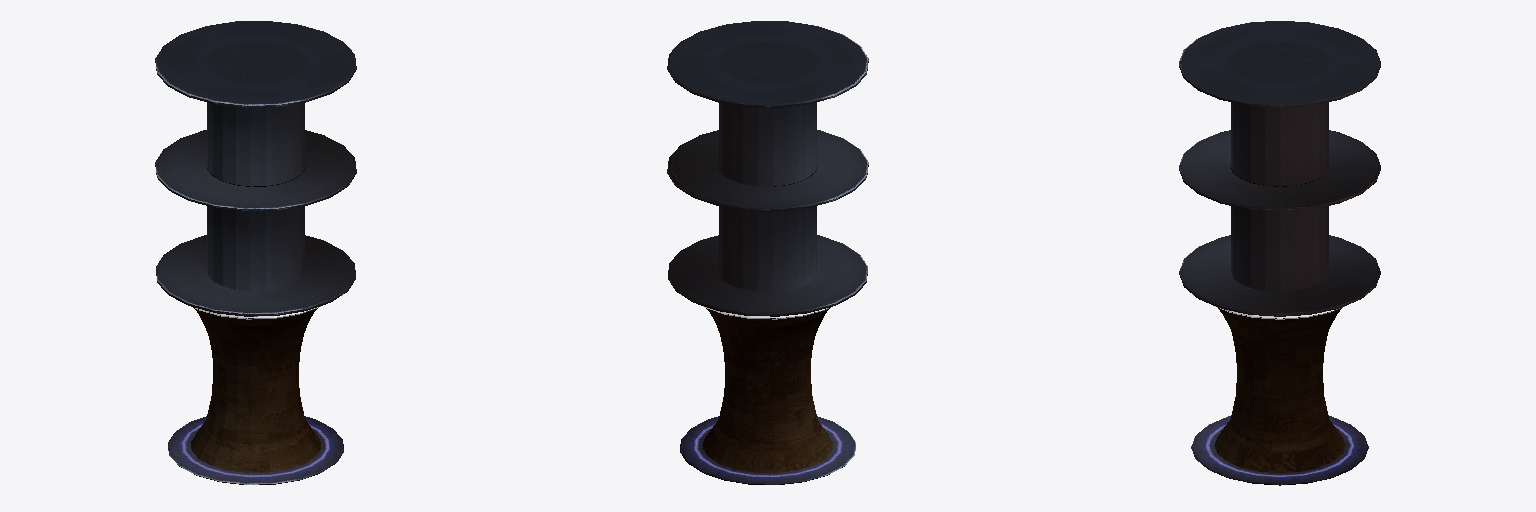
3 views of the same model, side by side, from view 1: azimuth 30°, elevation 25°; view 2: azimuth 150°, elevation 25°; view 3: azimuth 270°, elevation 25° (orthographic).
Parts seen in each view (by area): view 1: BarCenterBaked; view 2: BarCenterBaked; view 3: BarCenterBaked.
Part boxes in pixels (x1,y1,x2,y2): BarCenterBaked: (155, 21, 356, 484); BarCenterBaked: (667, 21, 868, 484); BarCenterBaked: (1179, 21, 1380, 485).
Bounding box in the file's own units: 1.02 × 2.14 × 1.02.
1 materials, 1 textured.